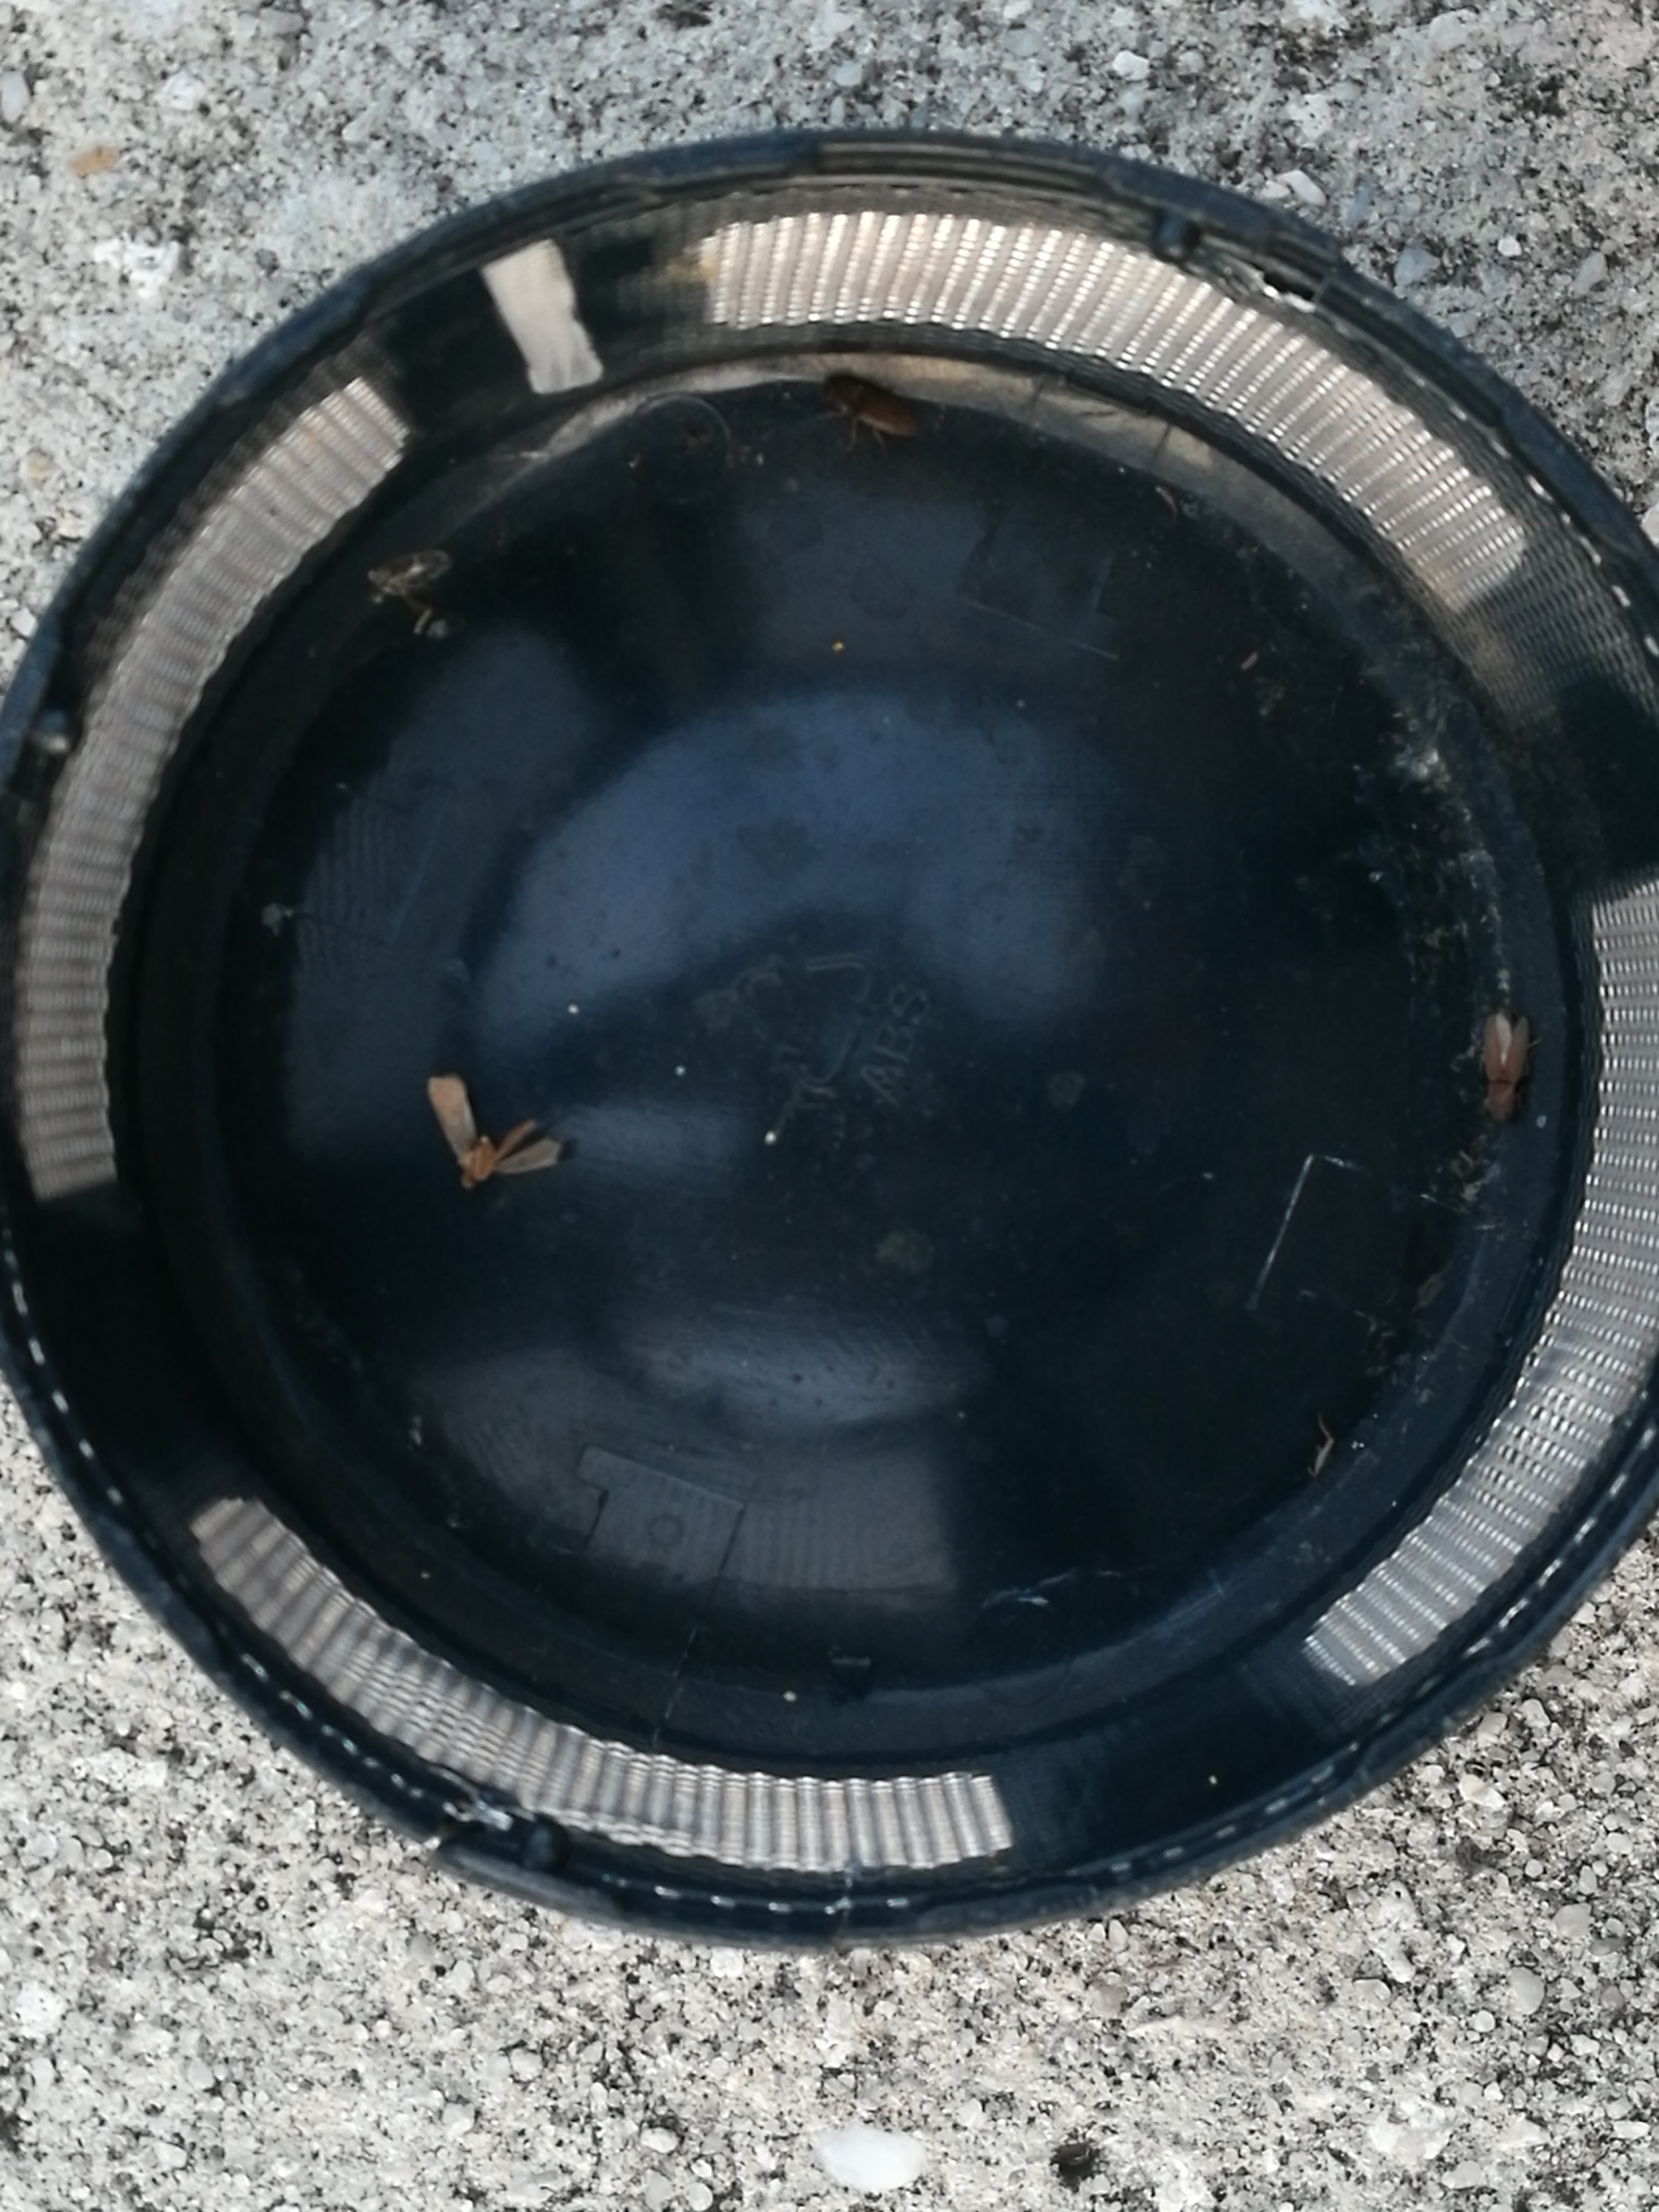mosquito: (828, 374, 915, 441), (1485, 1012, 1527, 1122)
moth: (427, 1076, 559, 1179)
